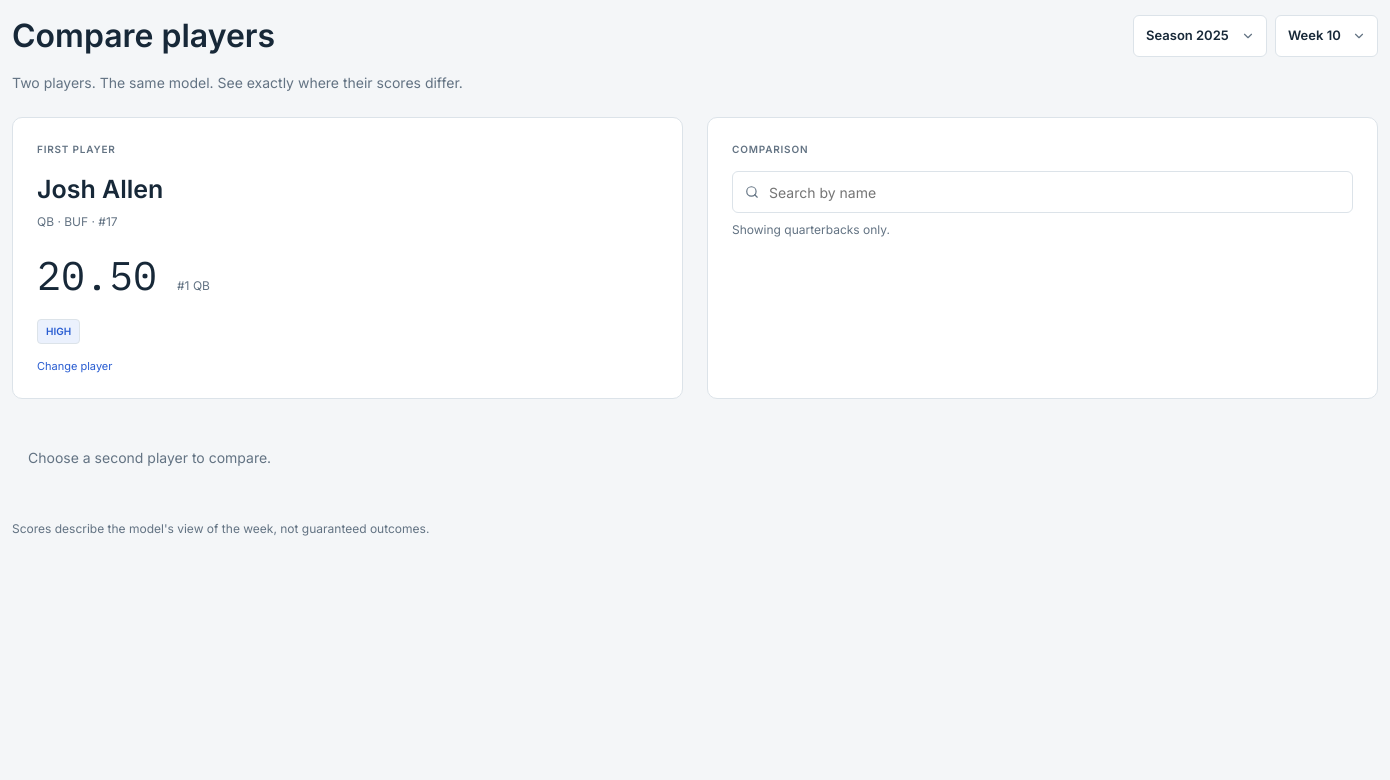
Test case: ComparePage › lets you search for a second player at the same position
In the search field: (1054, 192) [767, 180, 1340, 204], type "jack"
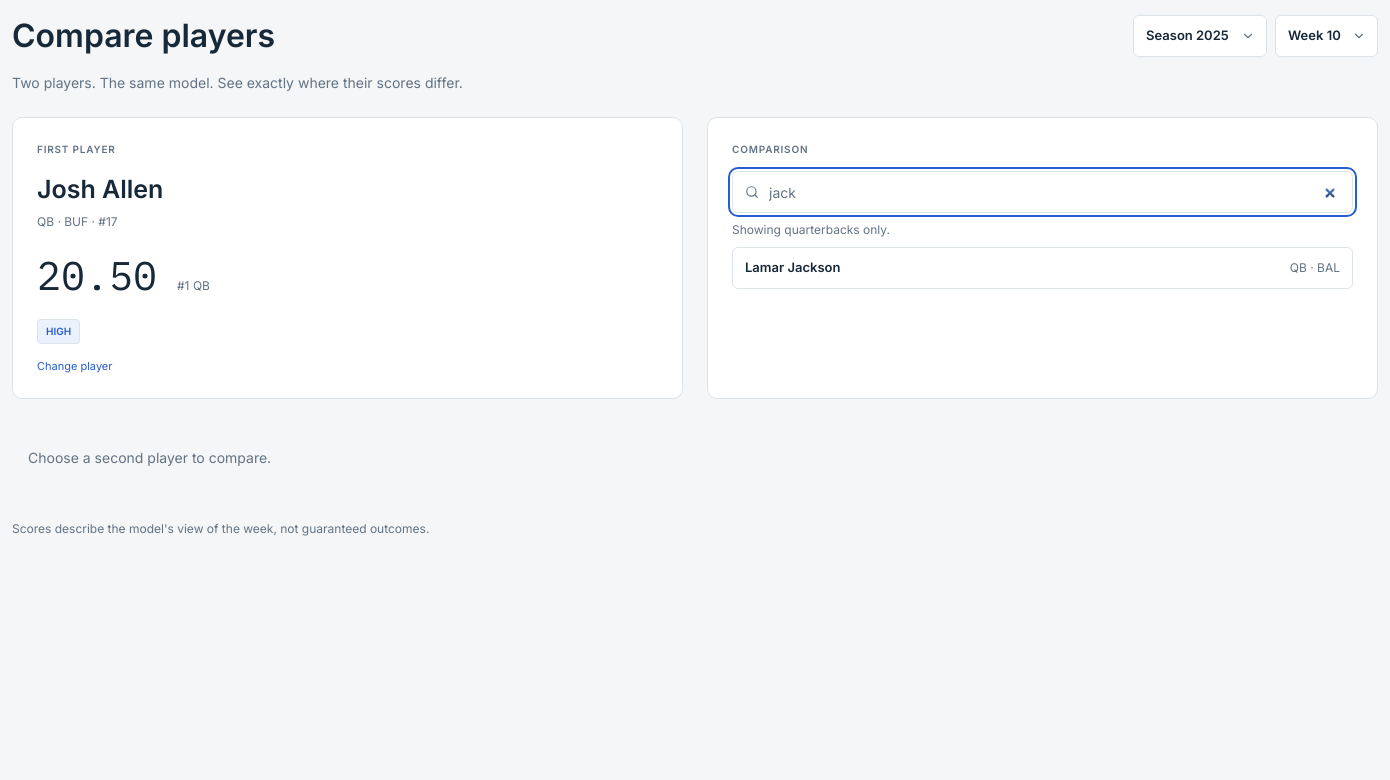
expect the text "Showing quarterbacks only." is shown: met, box [732, 222, 890, 237]
expect the text "Lamar Jackson" is shown: met, box [745, 258, 840, 278]
